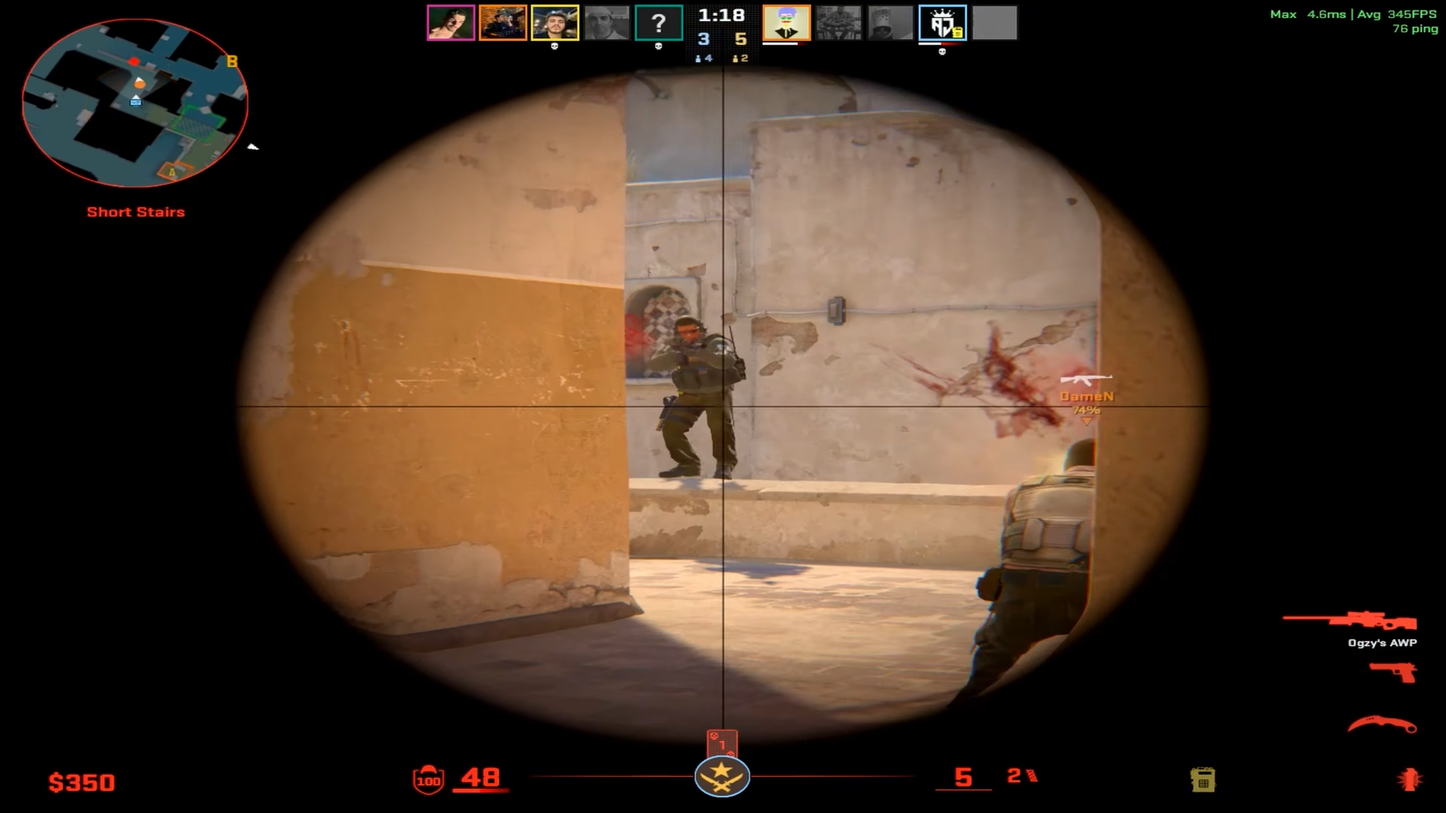CT: (651, 318, 747, 483)
T: (977, 439, 1098, 632)
